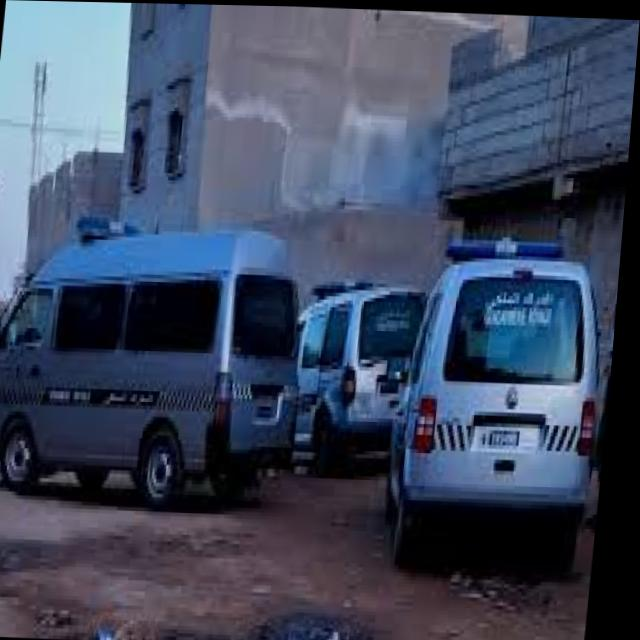gendarme car: (388, 221, 592, 569), (292, 267, 435, 476)
